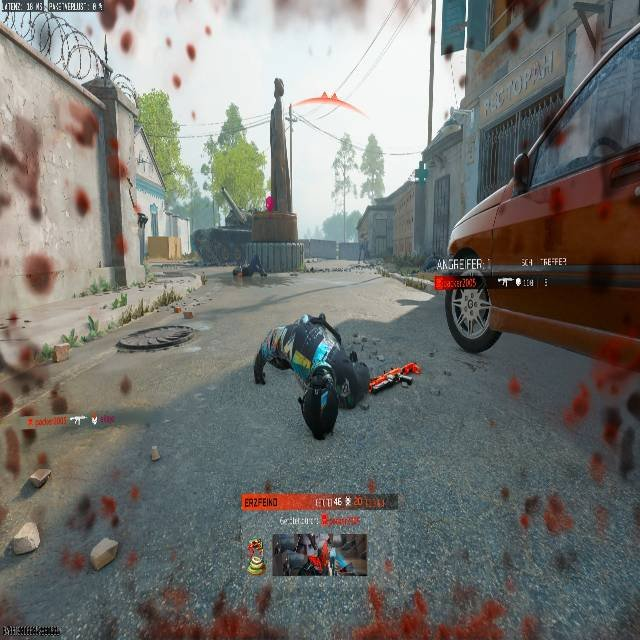player: (251, 312, 420, 440)
